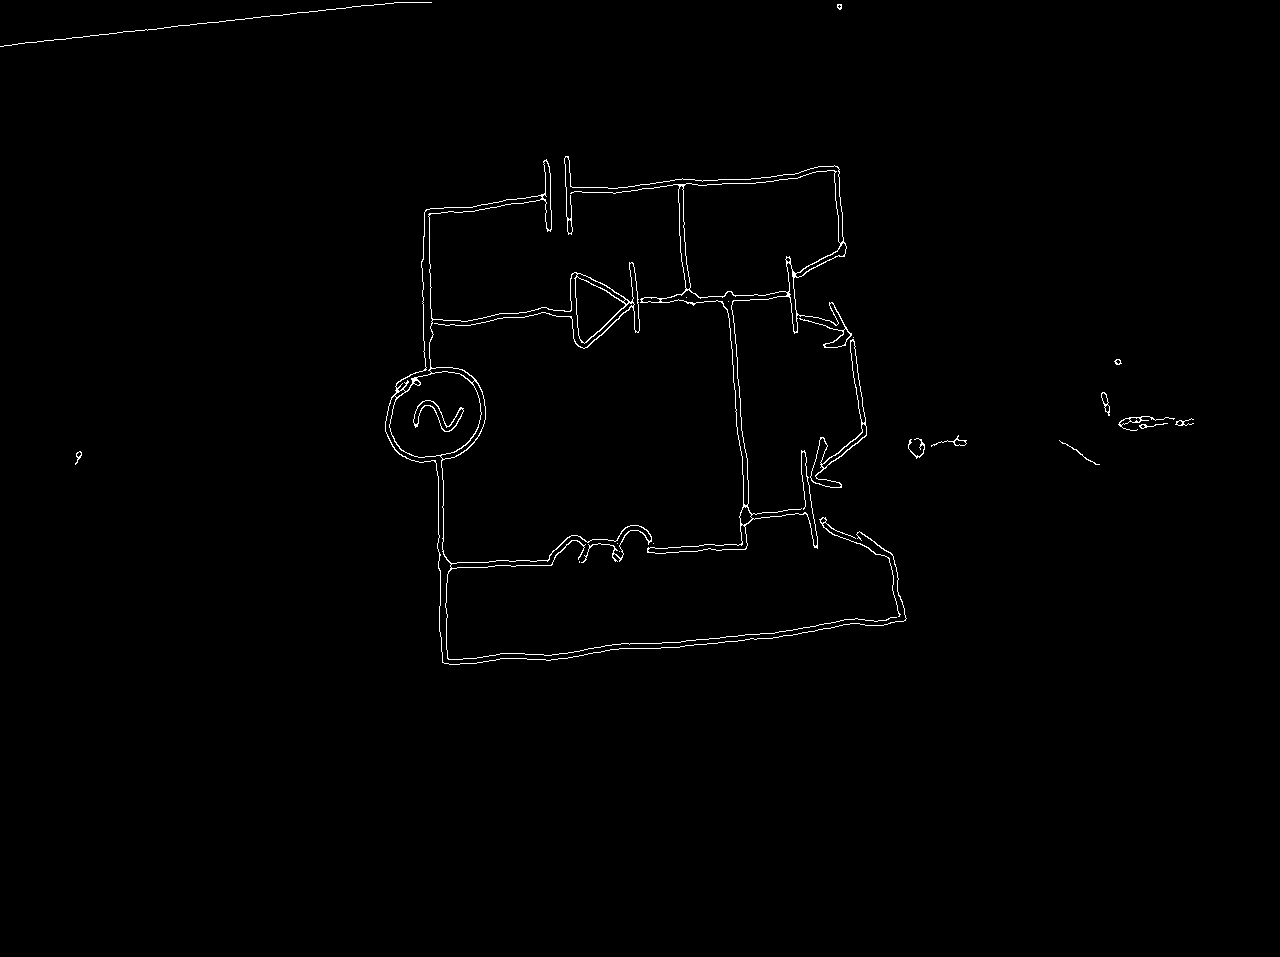capacitor: (522, 147, 589, 241)
diode: (548, 258, 660, 355)
inductor: (533, 519, 670, 571)
signal: (381, 351, 489, 483)
